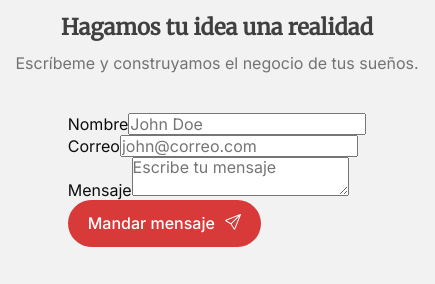
Contacto - Pruebas Funcionales › muestra error cuando el nombre es inválido
This screenshot has width=435, height=284.
Type "J" into the field labelled "Nombre". click: (247, 124)
box: [128,113,366,135]
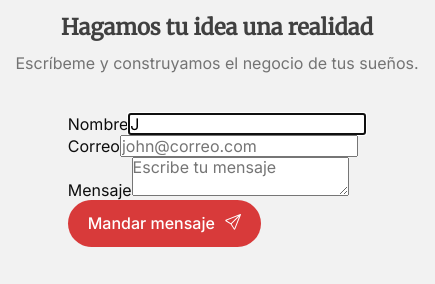
Click the button "Mandar mensaje". click: (164, 223)
box: [68,200,261,247]
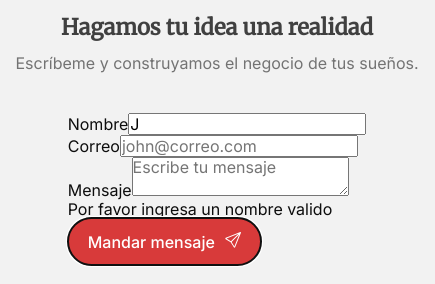
Now the text "Por favor ingresa un nombre valido" is shown, box [68,200,366,218]
